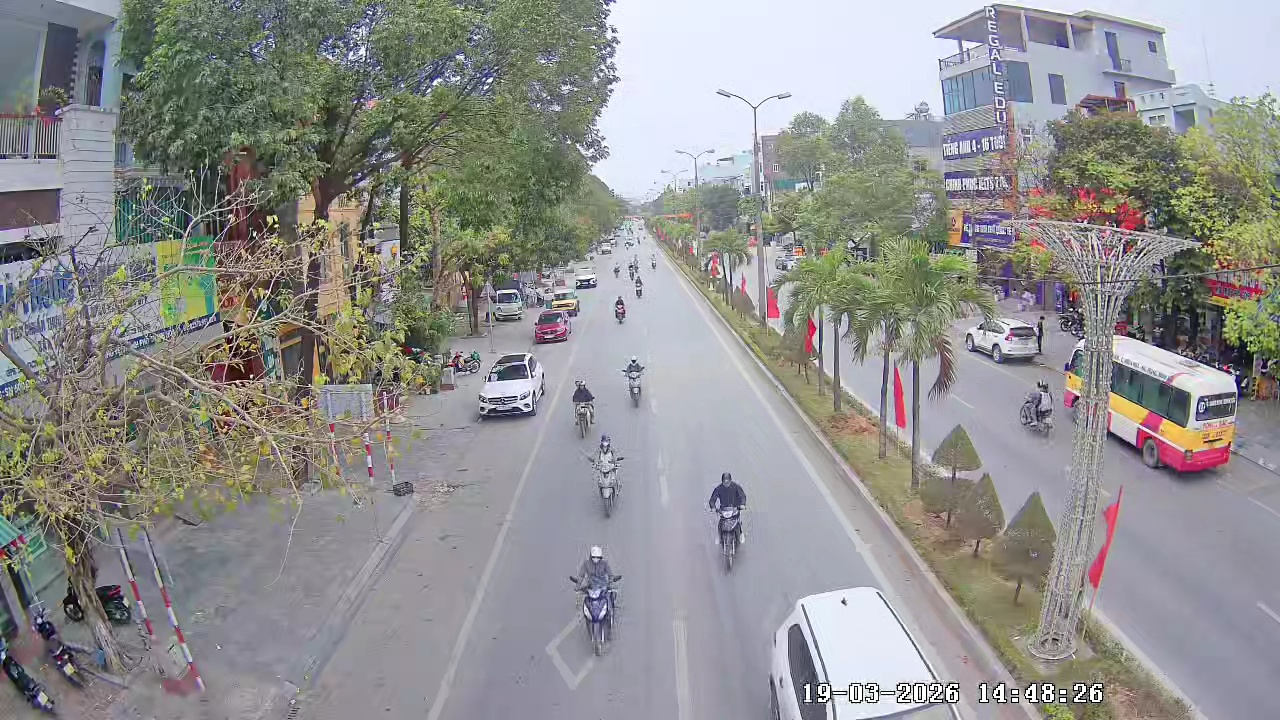bike: (566, 544, 625, 657)
car: (765, 584, 962, 719), (476, 351, 547, 419), (964, 322, 1044, 364), (532, 308, 570, 345)
motorbike: (567, 544, 626, 657), (704, 469, 750, 574), (584, 433, 627, 519), (1019, 378, 1056, 439), (570, 377, 597, 439), (621, 354, 648, 410), (633, 273, 650, 302), (612, 294, 627, 323)
truck: (1106, 338, 1240, 475)
